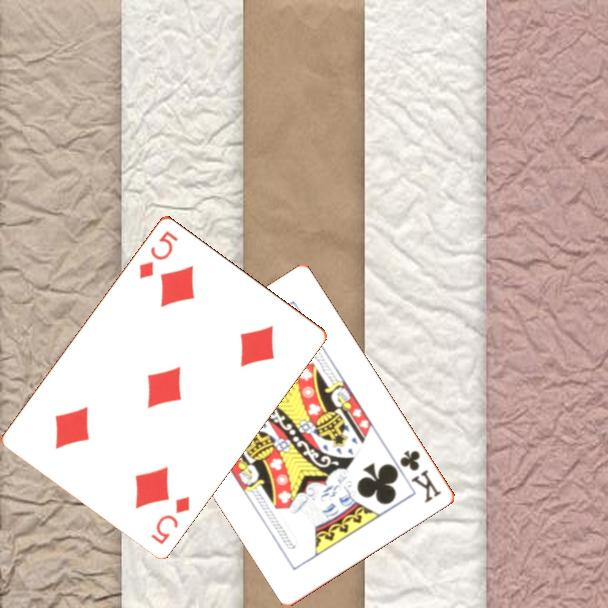c13: (396, 447, 445, 506)
d05: (147, 492, 193, 547), (135, 227, 181, 281)
